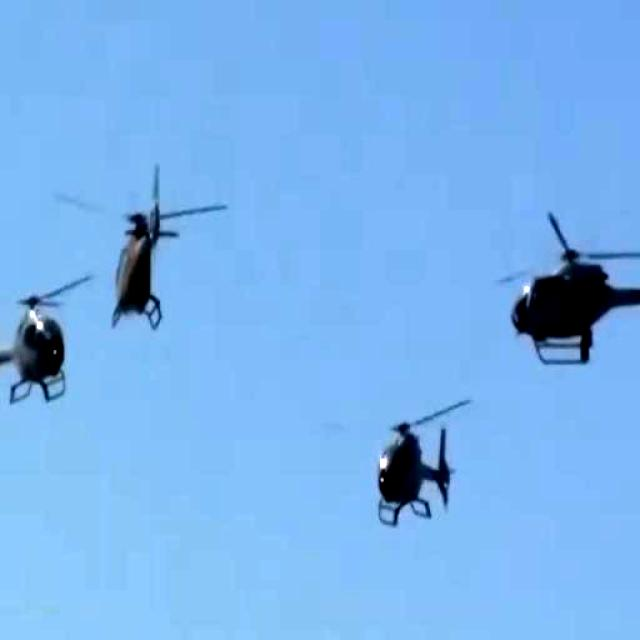drone: (485, 158, 640, 400), (86, 142, 225, 369), (339, 389, 485, 559), (0, 279, 91, 455)
